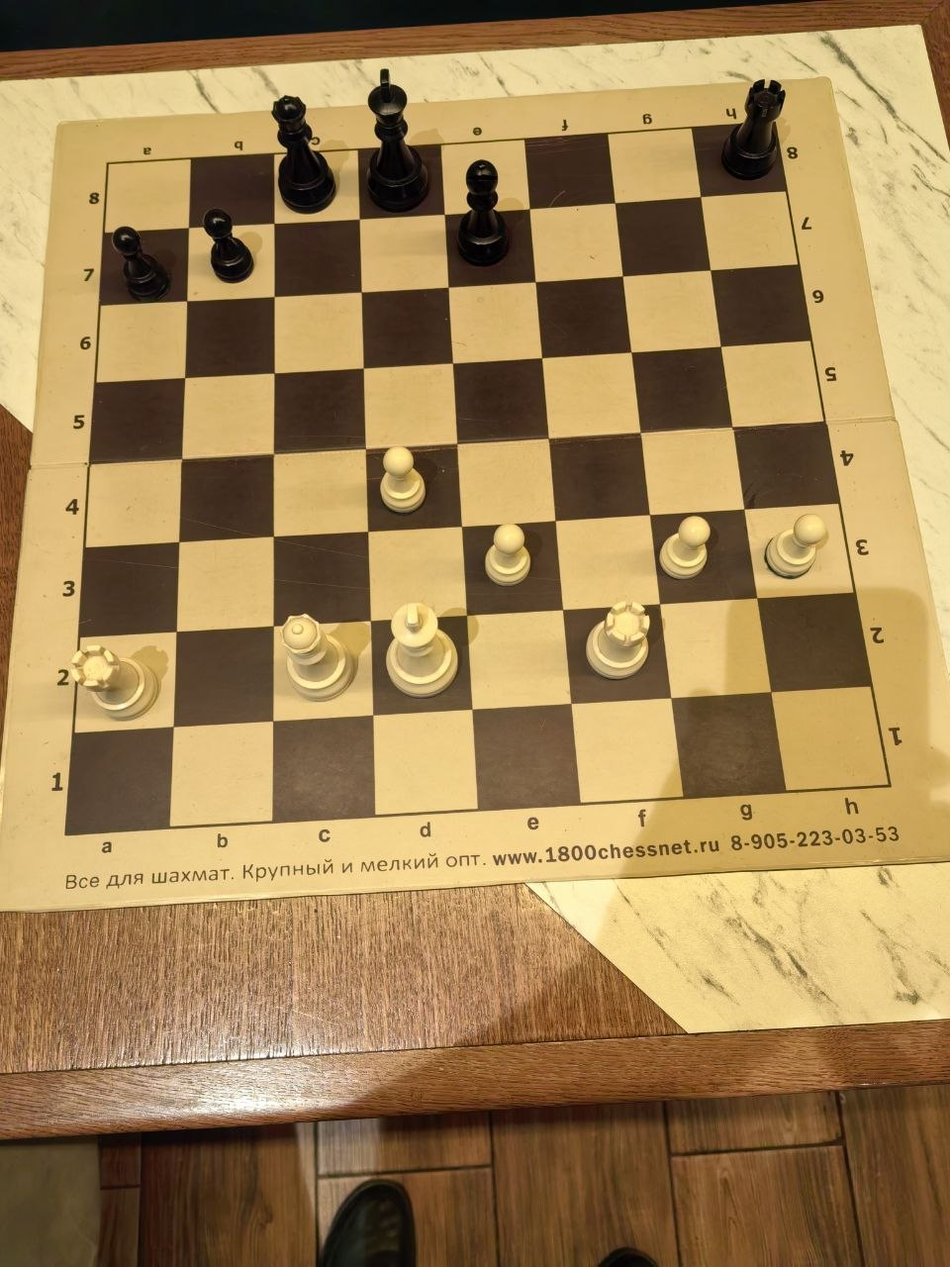black-bishop: (356, 950, 475, 1109)
black-king: (238, 950, 356, 1109)
black-knight: (0, 950, 119, 1109), (594, 950, 712, 1109)
black-rook: (356, 634, 475, 792), (475, 792, 594, 950), (712, 792, 831, 950), (831, 792, 950, 950)
white-bishop: (356, 0, 475, 158)
white-king: (238, 0, 356, 158)
white-knight: (831, 0, 950, 158)
white-pawn: (475, 158, 594, 317)
white-rook: (0, 158, 119, 317), (119, 158, 238, 317)
